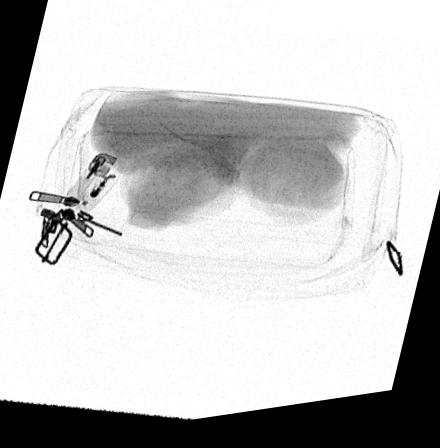Lighter: (56, 154, 121, 220)
